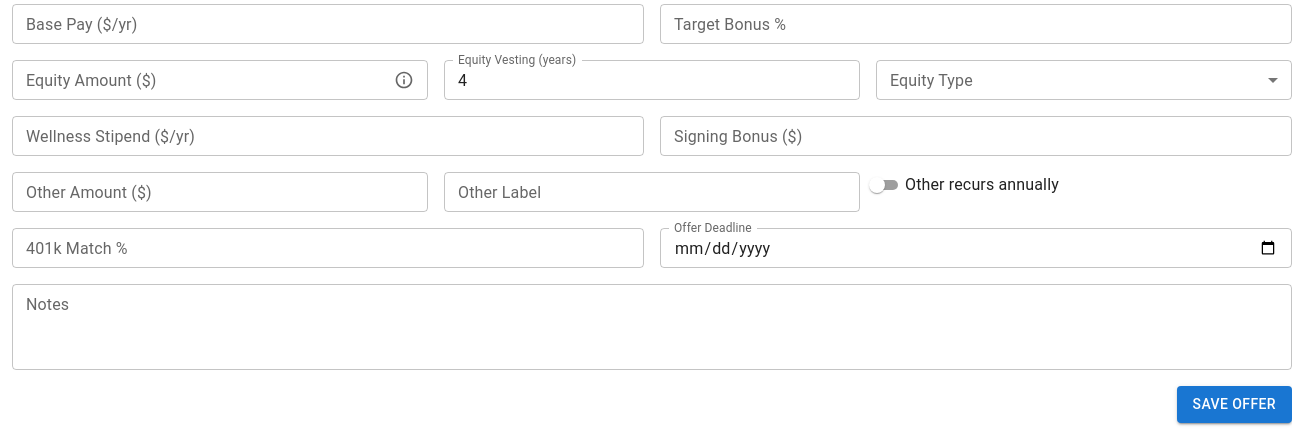
Test: offerTab › equity type select › renders RSUs as an option
Press the mouse on the dropdown named "Equity Type": x=1084, y=80 876,60 -> 1292,100
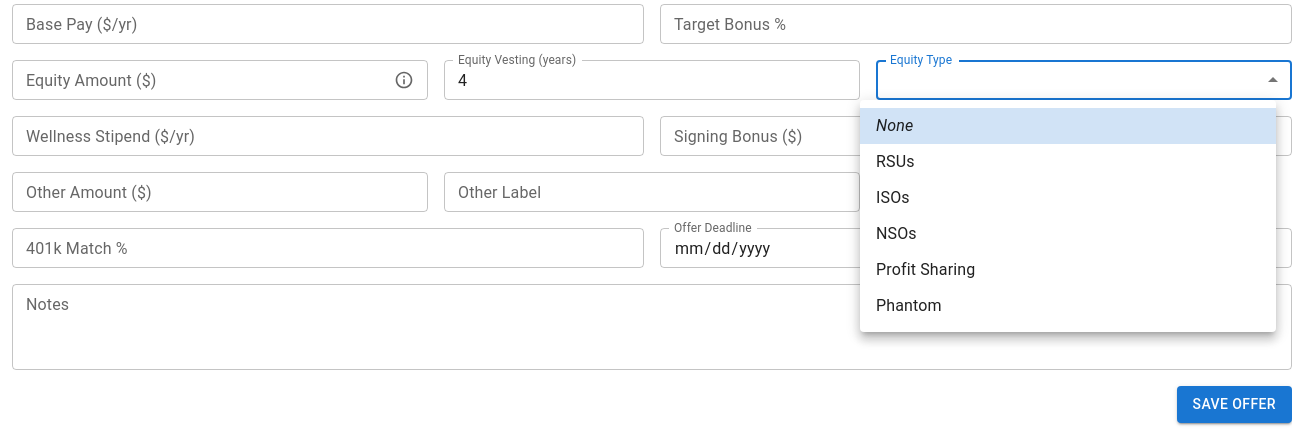
Expected: the option "RSUs" is shown, 876,152 -> 915,171
